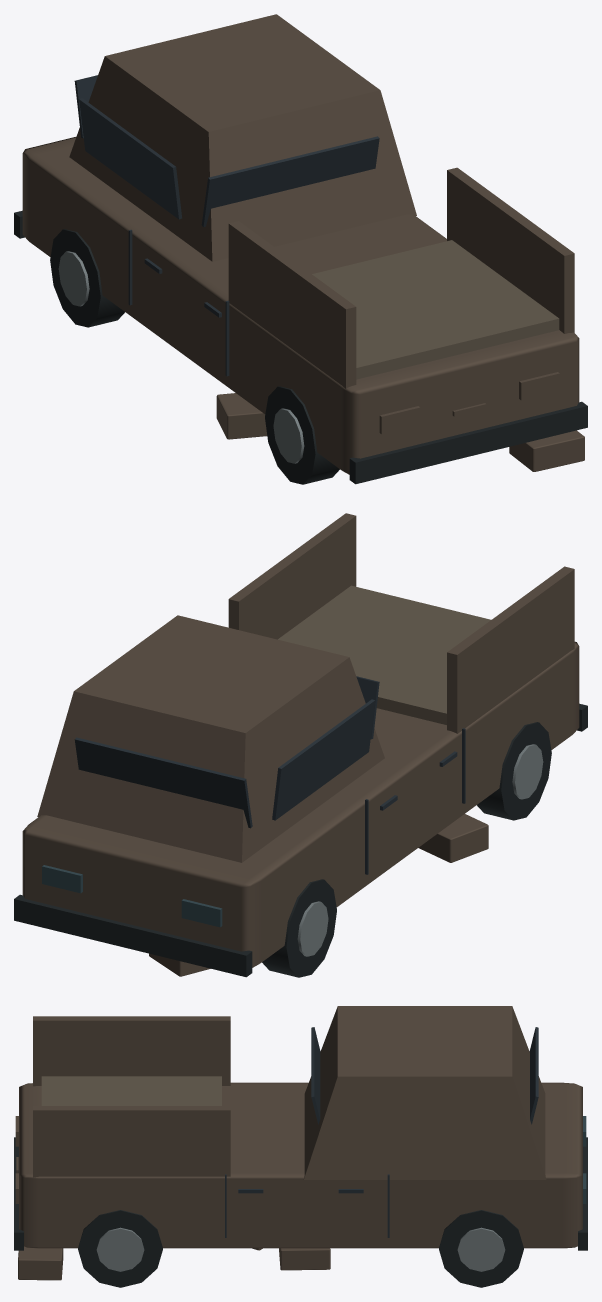
File: pickup-wreck-2.glb
3 renders of one model, top to bottom at view 1: azimuth 30°, elevation 25°; view 2: azimuth 150°, elevation 25°; view 3: azimuth 270°, elevation 25°, orthographic. The views are drawn at different scales.
Parts seen in each view (by area): view 1: pickup-wreck/1/KR-230-2; view 2: pickup-wreck/1/KR-230-2; view 3: pickup-wreck/1/KR-230-2.
Boxes of the visible parts, bbox=[...] form: pickup-wreck/1/KR-230-2: bbox=[14, 14, 587, 484]; pickup-wreck/1/KR-230-2: bbox=[14, 513, 587, 977]; pickup-wreck/1/KR-230-2: bbox=[14, 1006, 587, 1287].
Size of the model in its own units: 1.95 by 1.8 by 4.58.
